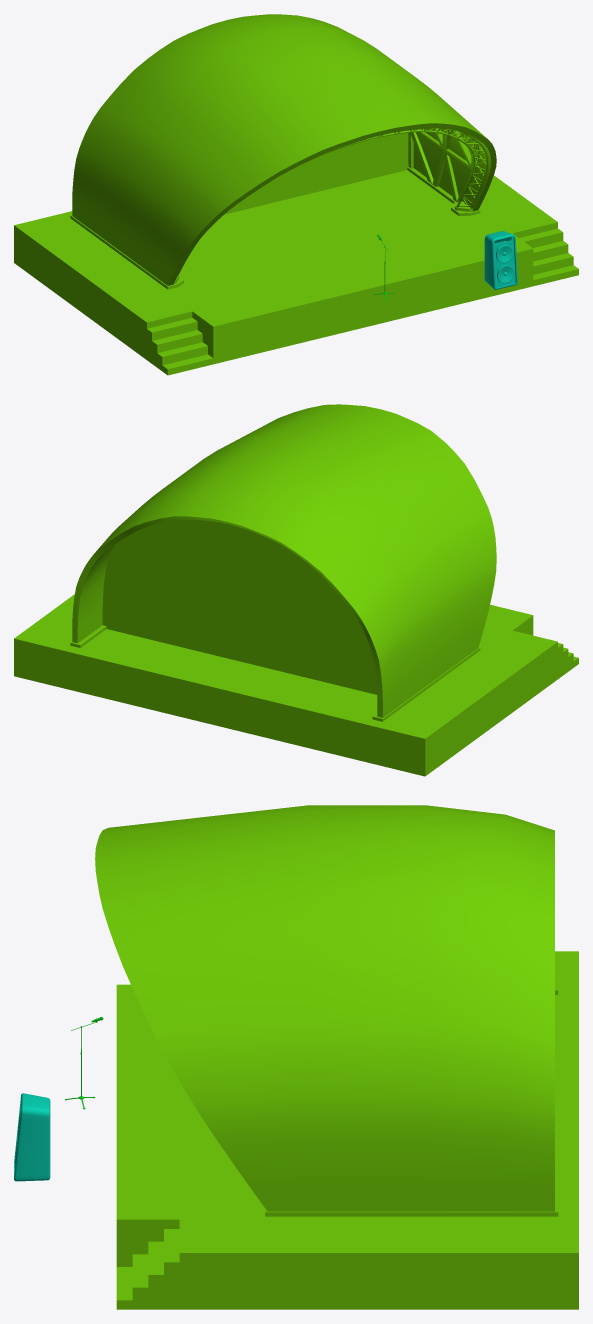
3 renders of one model, top to bottom at view 1: azimuth 30°, elevation 25°; view 2: azimuth 150°, elevation 25°; view 3: azimuth 270°, elevation 25°, orthographic. The views are drawn at different scales.
Parts seen in each view (by area): view 1: scene_1, speaker_1; view 2: scene_1; view 3: scene_1, speaker_1.
Part boxes in pixels (x1,y1,x2,y2): scene_1: (14,14,578,375); speaker_1: (484,231,517,289); scene_1: (14,404,578,776); scene_1: (95,805,578,1309); speaker_1: (14,1093,50,1181).
Size of the model in its own units: 1371 by 691 by 1085.
